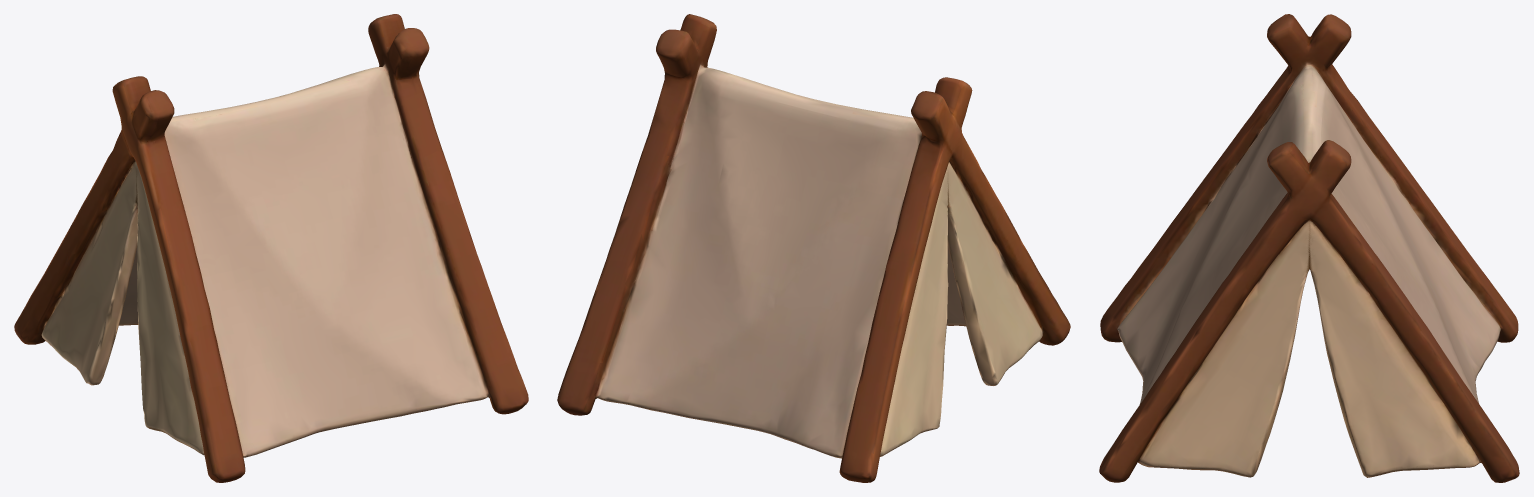
The model's file is tent.glb.
3 renders of one model, left to right at view 1: azimuth 30°, elevation 25°; view 2: azimuth 150°, elevation 25°; view 3: azimuth 270°, elevation 25°, orthographic.
Visible parts, largest first — view 1: tent; view 2: tent; view 3: tent.
Boxes of the visible parts, x1=… form: tent: x1=14, y1=14, x2=528, y2=482; tent: x1=557, y1=14, x2=1070, y2=482; tent: x1=1099, y1=14, x2=1519, y2=482.
Bounding box in the file's own units: 1.27 × 1.25 × 1.44.
Materials: 1 (1 with a texture image).
